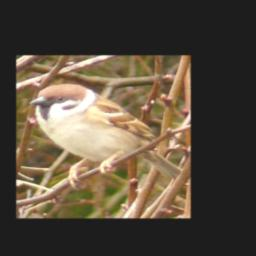Sparrow: (27, 83, 183, 190)
